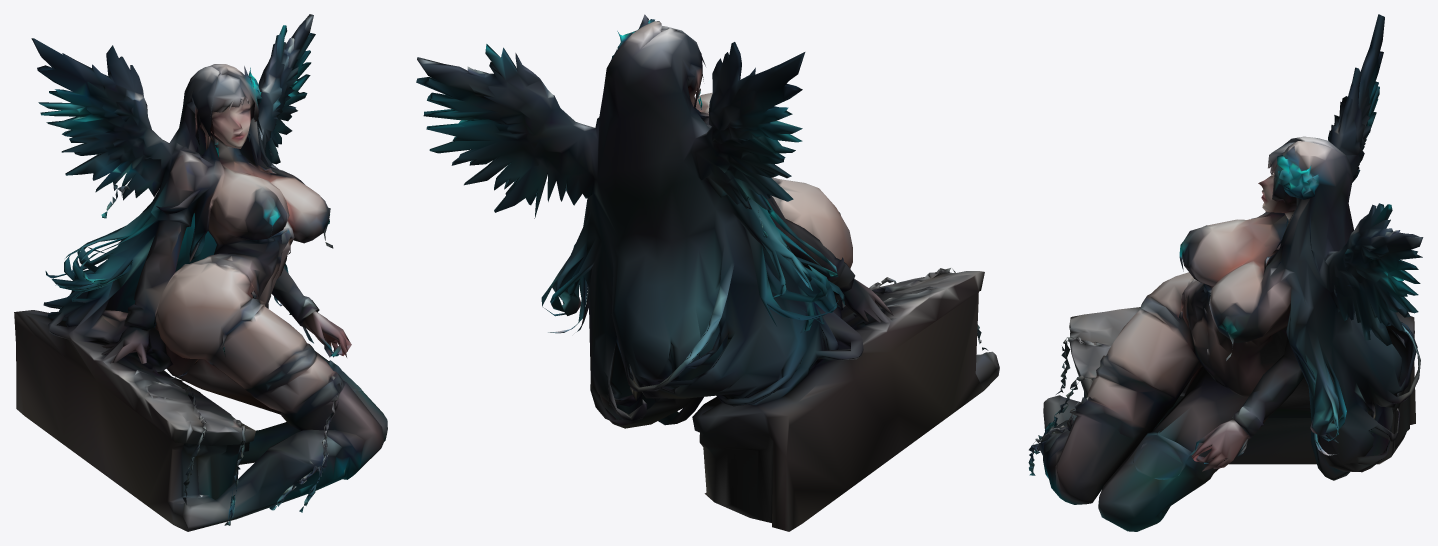
3 views of the same model, side by side, from view 1: azimuth 30°, elevation 25°; view 2: azimuth 150°, elevation 25°; view 3: azimuth 270°, elevation 25° (orthographic). The views are drawn at different scales.
Parts seen in each view (by area): view 1: model; view 2: model; view 3: model.
Part boxes in pixels (<box>): model: <box>14,14,387,531</box>; model: <box>416,14,999,531</box>; model: <box>1028,14,1423,531</box>.
Size of the model in its own units: 1.63 by 1.9 by 1.66.
